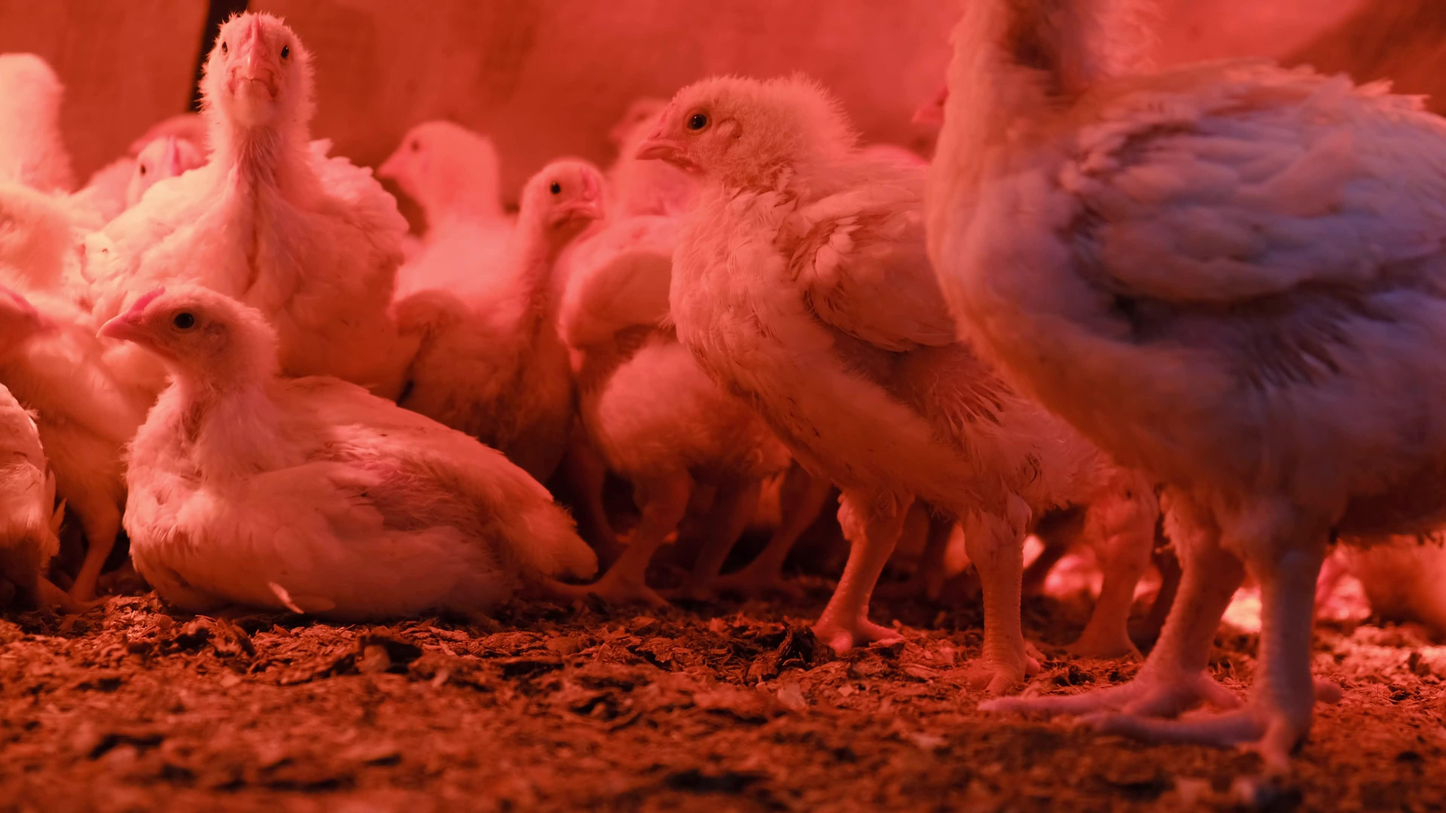AbNormal: (95, 279, 605, 620), (0, 362, 84, 626), (1328, 494, 1446, 636)
Normal: (925, 0, 1446, 813), (633, 68, 1119, 696), (85, 0, 421, 402), (549, 199, 784, 604), (382, 155, 614, 517), (2, 175, 168, 619), (364, 113, 519, 304), (0, 49, 81, 185), (122, 130, 207, 205)
